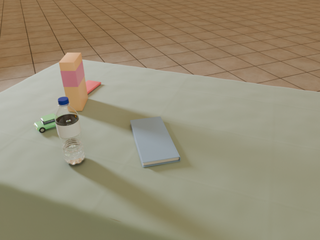book: (130, 117, 180, 167)
bottle: (54, 96, 86, 165)
box: (59, 53, 88, 111)
phone: (86, 80, 101, 93)
toy_car: (34, 113, 56, 133)
